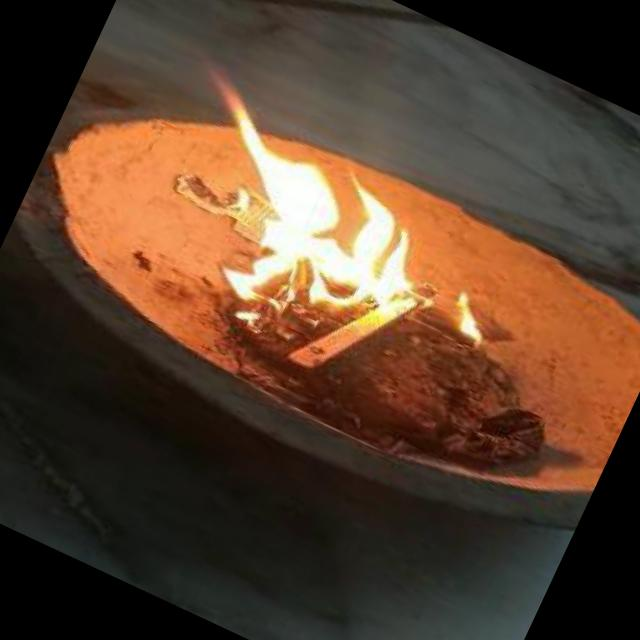fire: (110, 41, 551, 406)
